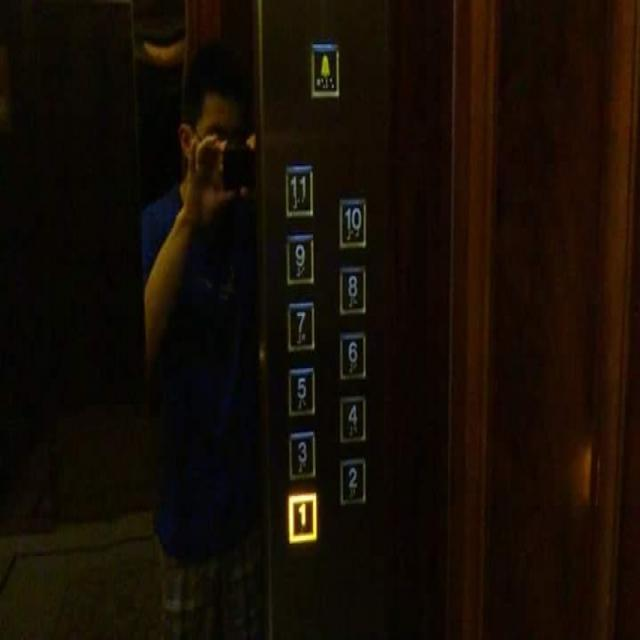1: (285, 490, 319, 546)
10: (334, 194, 368, 250)
11: (283, 160, 313, 219)
2: (334, 454, 368, 509)
3: (284, 427, 318, 482)
4: (336, 391, 370, 446)
5: (282, 364, 316, 420)
6: (336, 327, 370, 382)
7: (282, 296, 316, 352)
8: (334, 262, 368, 318)
9: (284, 230, 318, 286)
alarm: (308, 39, 342, 100)
